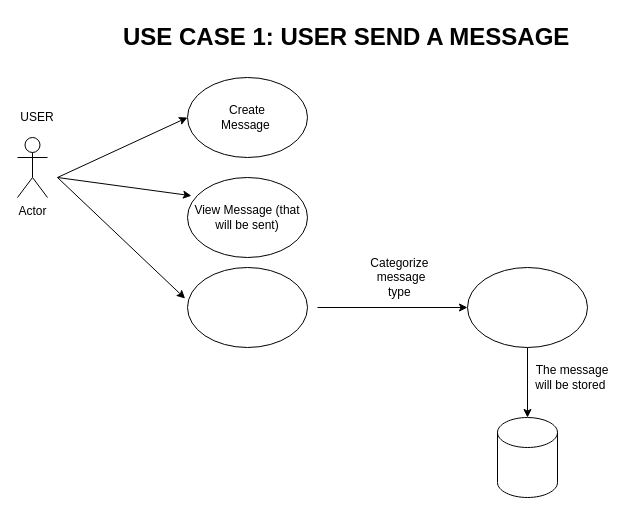
The diagram is 635 pixels wide and 515 high, and some of its shapes have lost their labels. Here are the shapes that lost their labels. From the top down, the centre of each, then its label:
At pixel 247 307: "Send Message".
At pixel 527 457: "JSON FILE (storage)".
